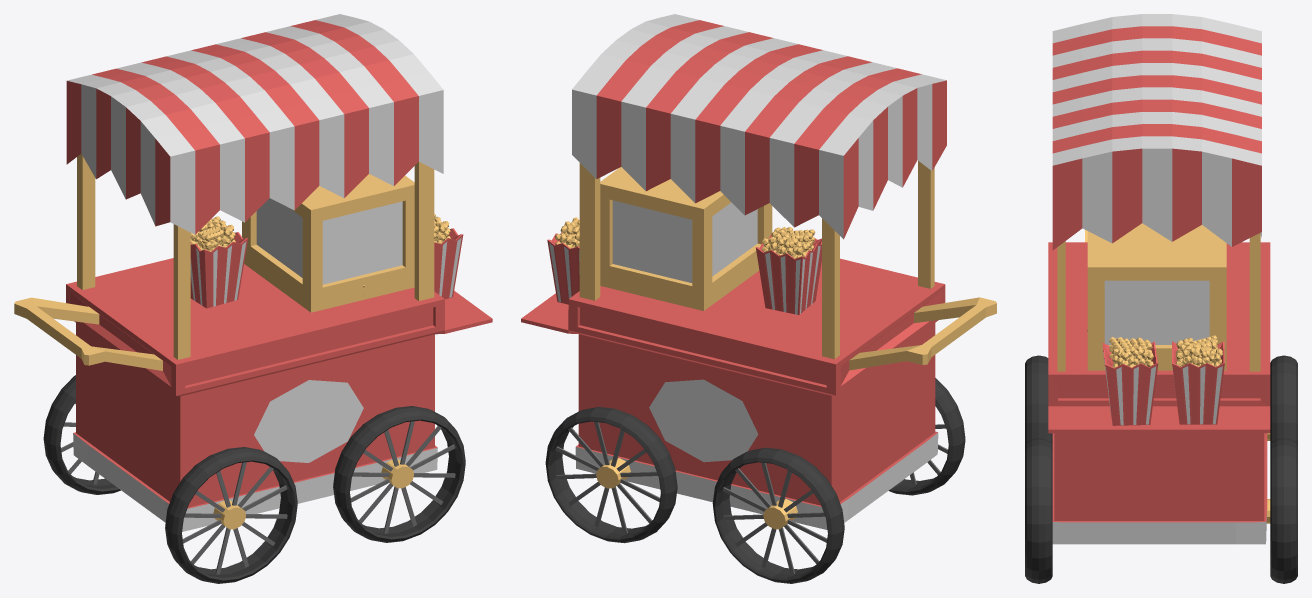
Rendered from popcorn machine.fbx.
3 views of the same model, side by side, from view 1: azimuth 30°, elevation 25°; view 2: azimuth 150°, elevation 25°; view 3: azimuth 270°, elevation 25° (orthographic).
Parts seen in each view (by area): view 1: Cylinder.005, Icosphere.182, Icosphere.001; view 2: Cylinder.005, Icosphere.182, Icosphere.002; view 3: Cylinder.005, Icosphere.001, Icosphere.002.
Boxes of the visible parts, left/top/right/bottom form: Cylinder.005: left=14, top=14, right=492, bottom=583; Icosphere.182: left=190, top=216, right=248, bottom=308; Icosphere.001: left=434, top=213, right=463, bottom=299; Cylinder.005: left=521, top=14, right=996, bottom=583; Icosphere.182: left=755, top=227, right=821, bottom=314; Icosphere.002: left=547, top=217, right=579, bottom=304; Cylinder.005: left=1025, top=14, right=1297, bottom=583; Icosphere.001: left=1102, top=337, right=1158, bottom=425; Icosphere.002: left=1172, top=335, right=1224, bottom=424.
Size of the model in its own units: 113 by 125 by 68.03.
